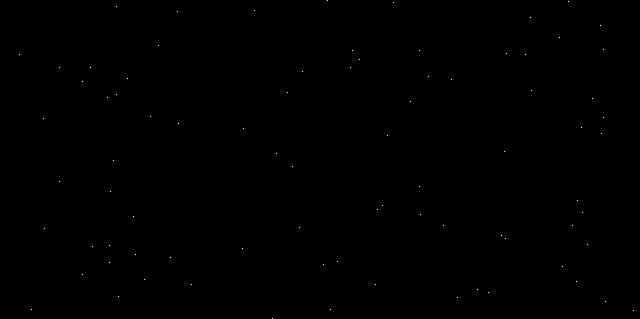crow bar: (253, 0, 406, 316)
